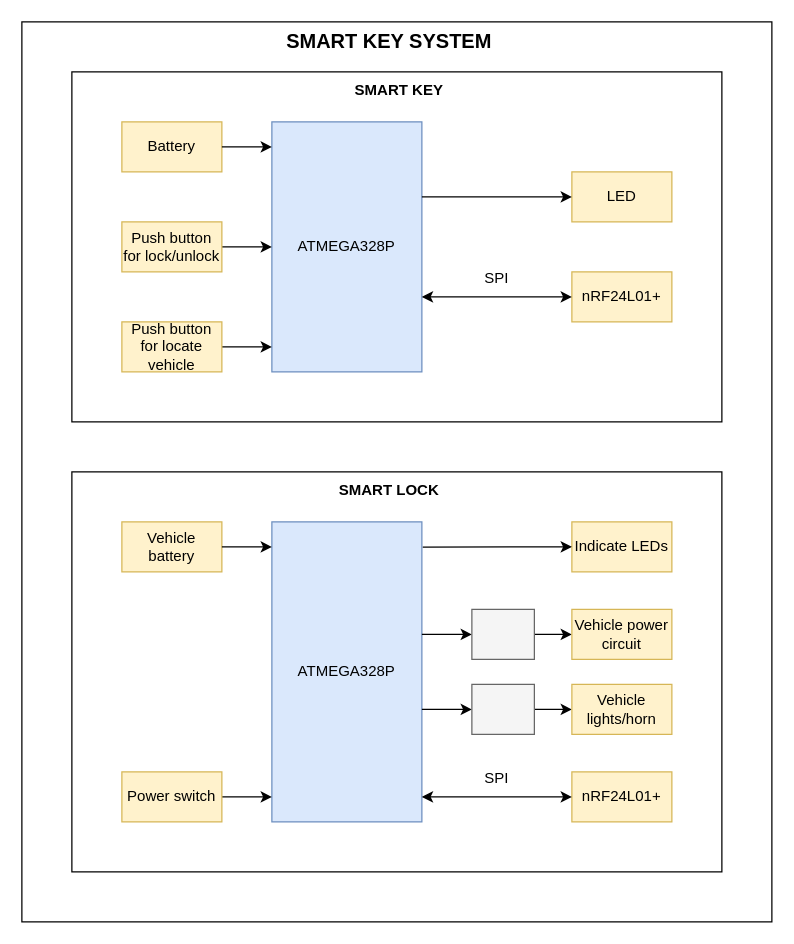
Some shapes in this 794 by 944 pixel diagram are drawn without their labels. Here are the shapes that lost their labels. From the top down, the centre of each, then its label:
[502,633]: Relay 1
[502,708]: Relay 2
